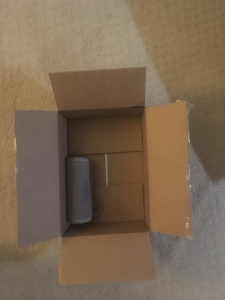innerbox: (56, 110, 150, 234)
outerbox: (17, 72, 192, 276)
product: (65, 158, 96, 225)
